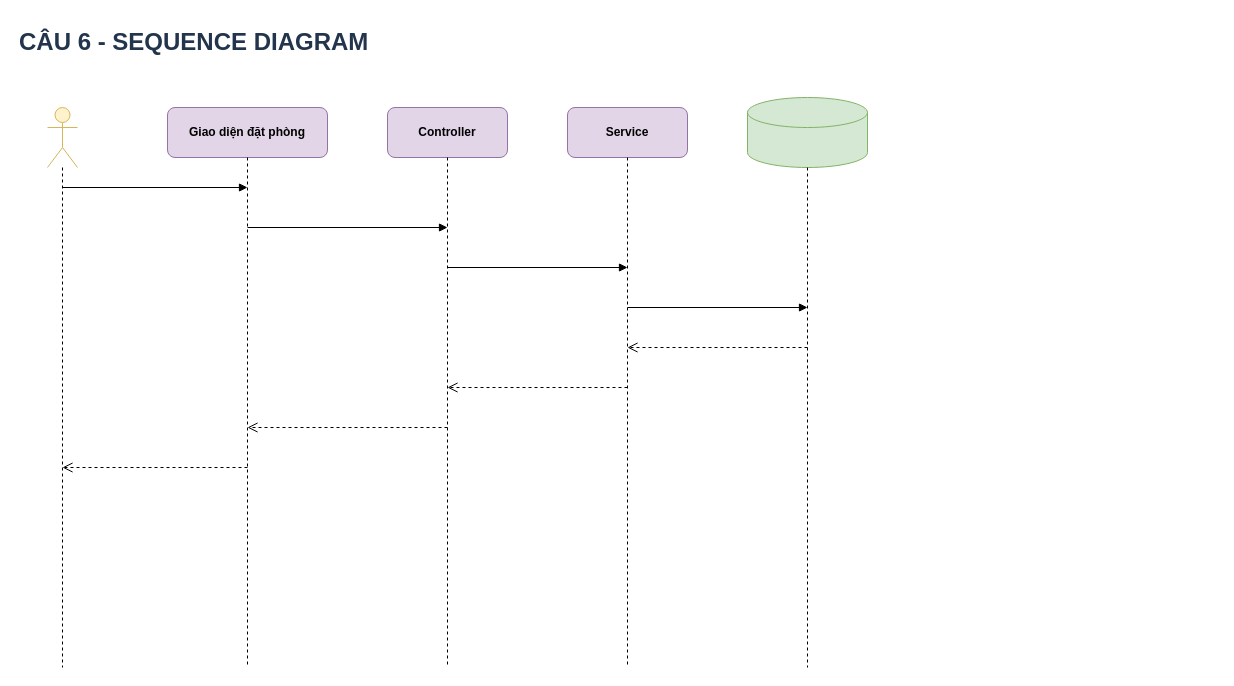
Image size: 1234x686. Some labels were removed from this diagram. The centre of each missing label's shape, as x and y in pixels:
"Database" belongs at point 807,132.
"Khách hàng" belongs at point 62,137.
